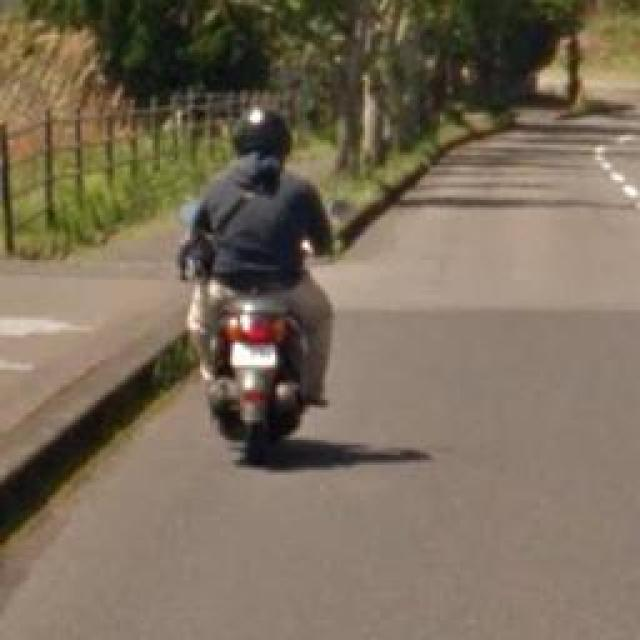Motor: (202, 285, 305, 462)
